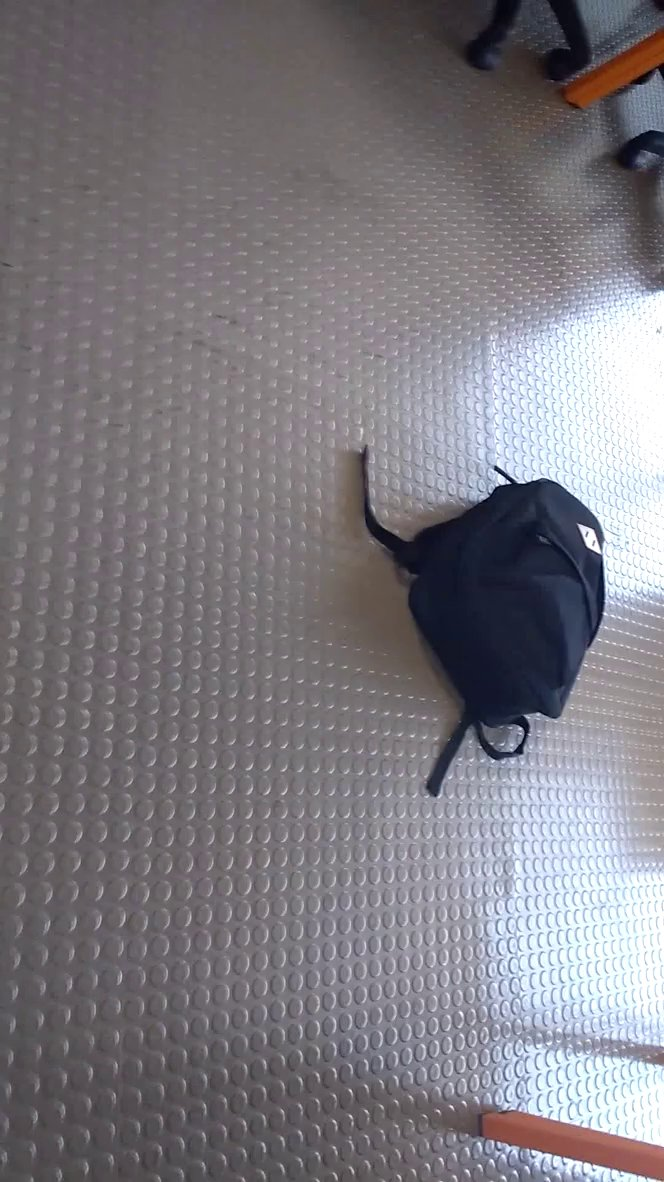bag: (357, 448, 632, 814)
